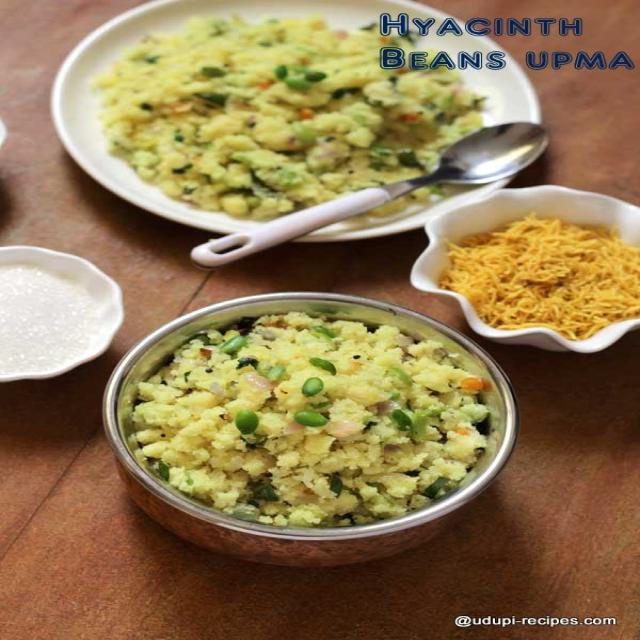upma: (93, 290, 530, 552), (86, 4, 503, 239)
